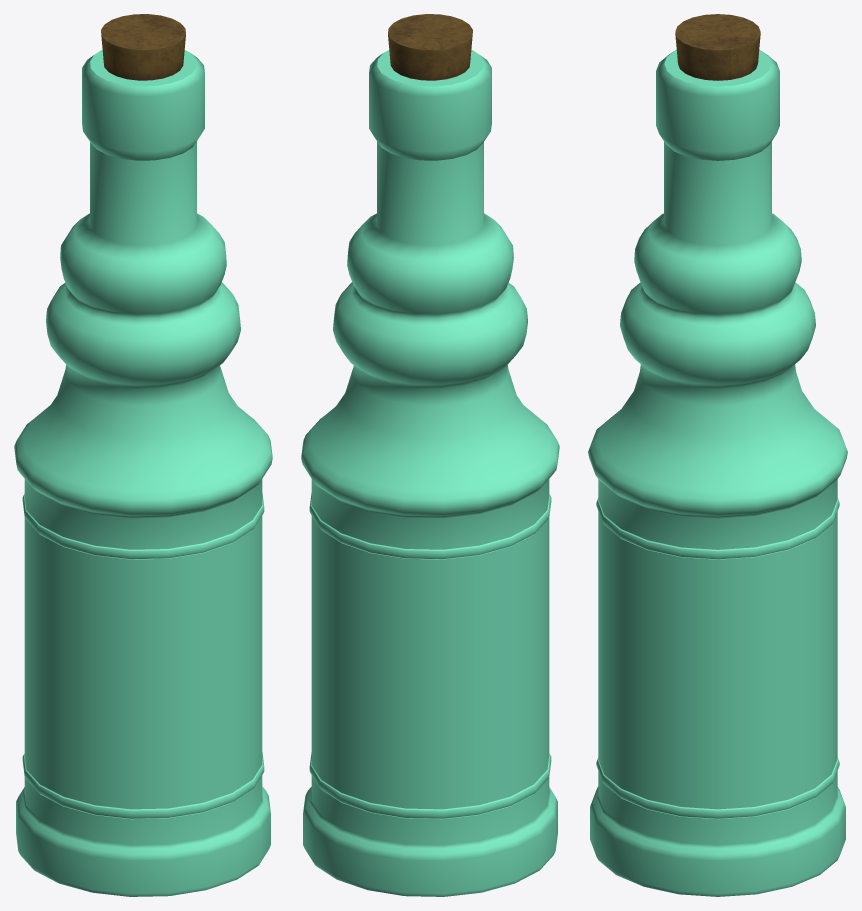
Rendered from obj_vintage_glass_bottle_767401.glb.
The picture shows the model from 3 angles, left to right: view 1: azimuth 30°, elevation 25°; view 2: azimuth 150°, elevation 25°; view 3: azimuth 270°, elevation 25°; orthographic projection.
Parts seen in each view (by area): view 1: obj_vintage_glass_bottle_767401; view 2: obj_vintage_glass_bottle_767401; view 3: obj_vintage_glass_bottle_767401.
Part boxes in pixels (box(x1,y1,x2,y2)): obj_vintage_glass_bottle_767401: box(14, 14, 272, 896); obj_vintage_glass_bottle_767401: box(301, 14, 559, 896); obj_vintage_glass_bottle_767401: box(588, 14, 847, 896).
Bounding box in the file's own units: 0.0811 × 0.28 × 0.0811.
2 materials, 2 textured.
